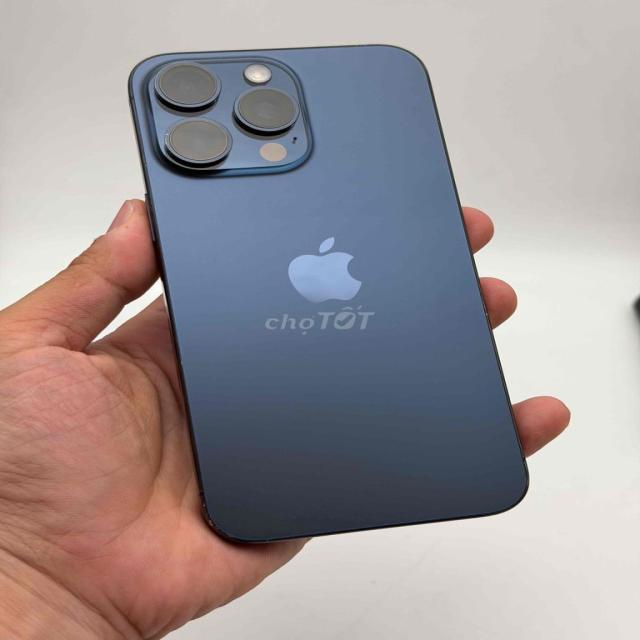scratch: (200, 499, 215, 525), (162, 127, 170, 144), (177, 358, 185, 365)
